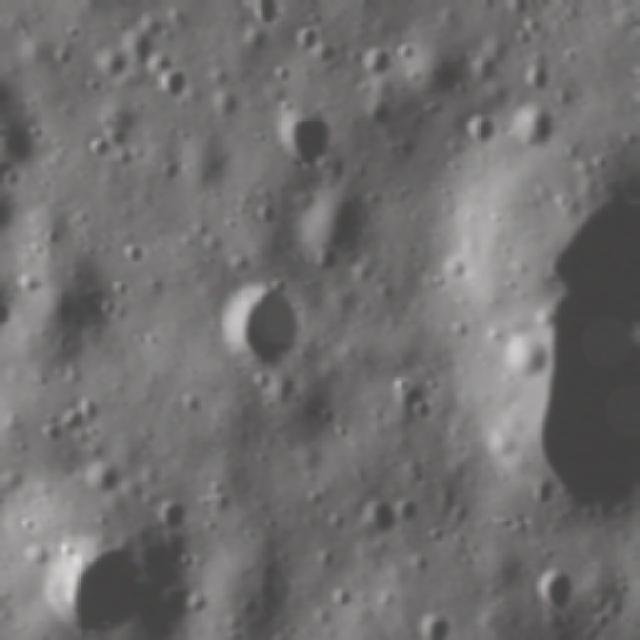crater: (495, 182, 637, 521), (49, 538, 162, 636), (210, 280, 304, 382), (298, 178, 380, 265), (285, 106, 341, 172), (528, 566, 588, 612), (509, 103, 557, 155), (362, 500, 413, 546), (359, 39, 413, 78), (416, 602, 467, 640), (155, 65, 203, 103), (466, 107, 502, 147)
